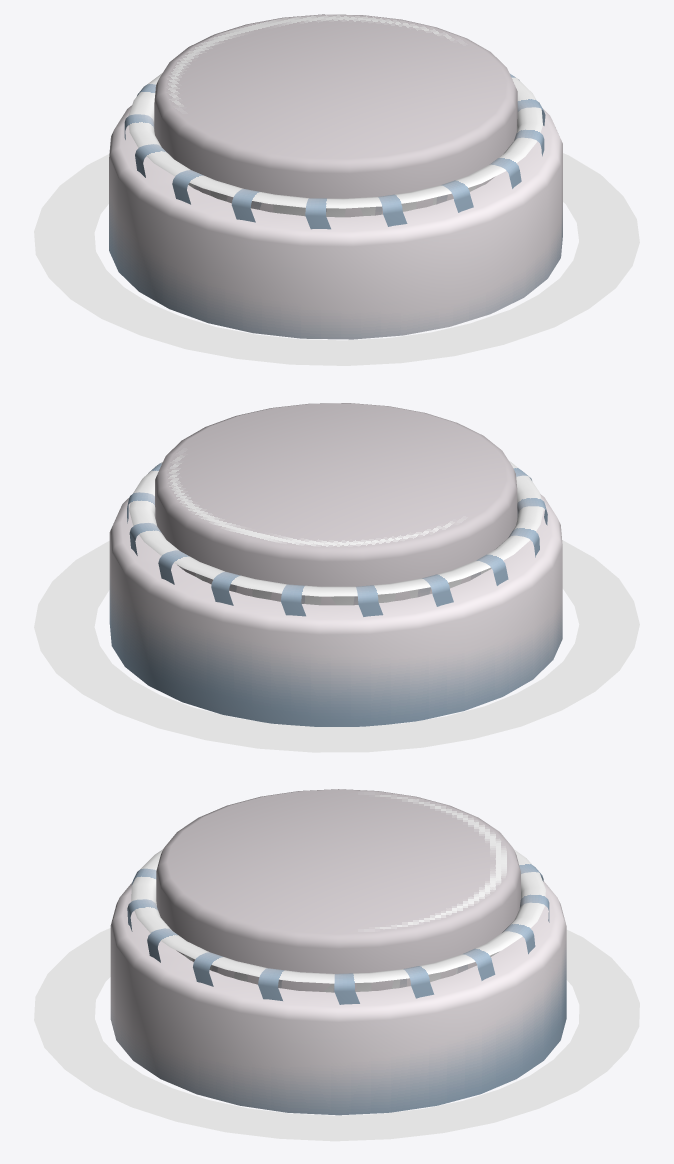
The model's file is 3dButton.fbx.
The picture shows the model from 3 angles, top to bottom: view 1: azimuth 30°, elevation 25°; view 2: azimuth 150°, elevation 25°; view 3: azimuth 270°, elevation 25°; orthographic projection.
Parts seen in each view (by area): view 1: button_down, button_up, button_shadow, button_hard; view 2: button_down, button_up, button_shadow, button_hard; view 3: button_down, button_up, button_shadow, button_hard.
Boxes of the visible parts, <box> form: button_down: <box>109,105,562,339</box>; button_up: <box>154,14,517,217</box>; button_shadow: <box>34,153,639,365</box>; button_hard: <box>124,73,545,229</box>; button_down: <box>109,494,562,726</box>; button_up: <box>155,403,517,605</box>; button_shadow: <box>34,540,639,752</box>; button_hard: <box>127,461,547,616</box>; button_down: <box>110,881,566,1115</box>; button_up: <box>156,789,520,991</box>; button_shadow: <box>34,928,639,1141</box>; button_hard: <box>127,849,549,1004</box>.
Size of the model in its own units: 142 by 38 by 142.
